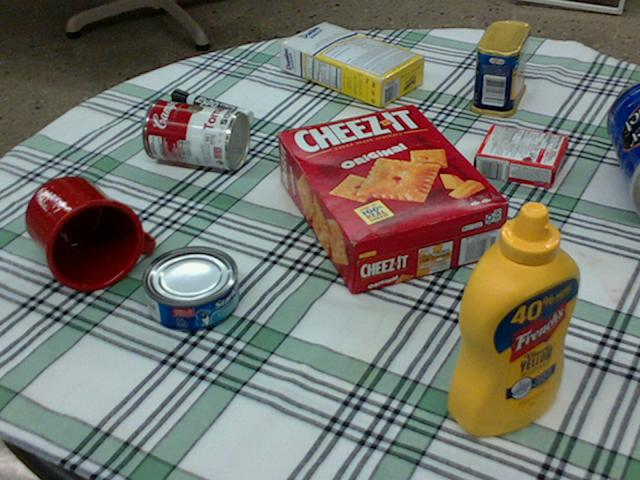cracker_box: (280, 103, 509, 291)
gelatin_box: (473, 125, 564, 185)
large_marker: (170, 89, 251, 123)
master_chef_can: (603, 79, 639, 212)
mug: (24, 176, 151, 290)
mustard_bottle: (449, 199, 581, 434)
potted_meat_can: (469, 20, 528, 116)
sugar_box: (279, 22, 426, 106)
tomato_soup_can: (141, 98, 249, 168)
tuna_fish_can: (139, 245, 238, 331)
